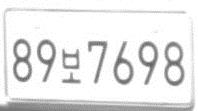6: (111, 40, 134, 85)
7: (86, 40, 109, 85)
8: (164, 41, 185, 87), (11, 38, 32, 82)
9: (35, 39, 57, 84), (138, 41, 159, 85)
보: (60, 47, 82, 85)
